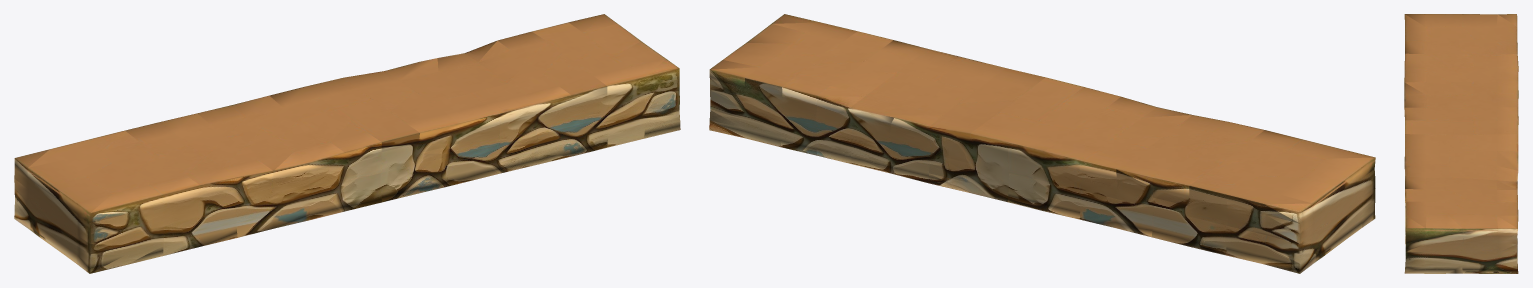
The model's file is trim.glb.
3 views of the same model, side by side, from view 1: azimuth 30°, elevation 25°; view 2: azimuth 150°, elevation 25°; view 3: azimuth 270°, elevation 25° (orthographic). The views are drawn at different scales.
Size of the model in its own units: 2 by 0.2 by 0.45.
Materials: 1 (1 with a texture image).
